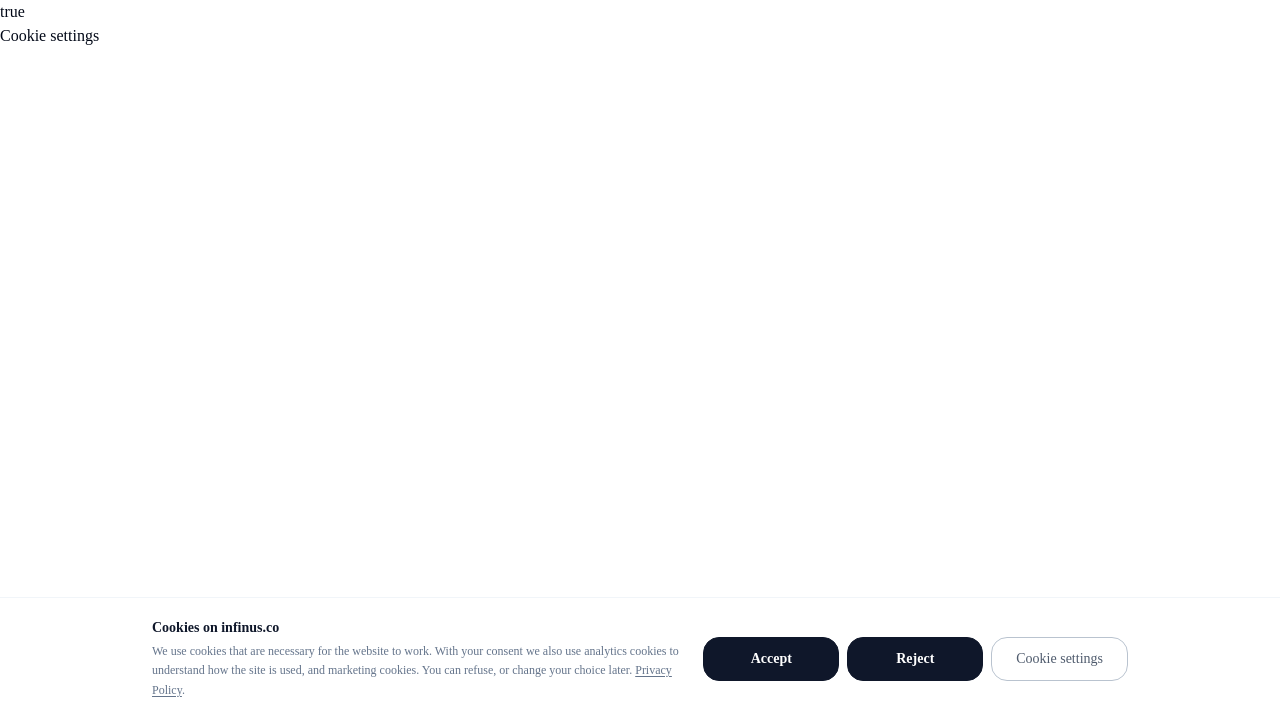
Scenario: Reject all › stores a refusal, loads nothing, and does not re-prompt
expect the dialog with test id "cookie-banner" is shown: met, box [0, 596, 1279, 719]
Click the button with test id "cookie-reject" at (915, 659), box [847, 637, 983, 681]
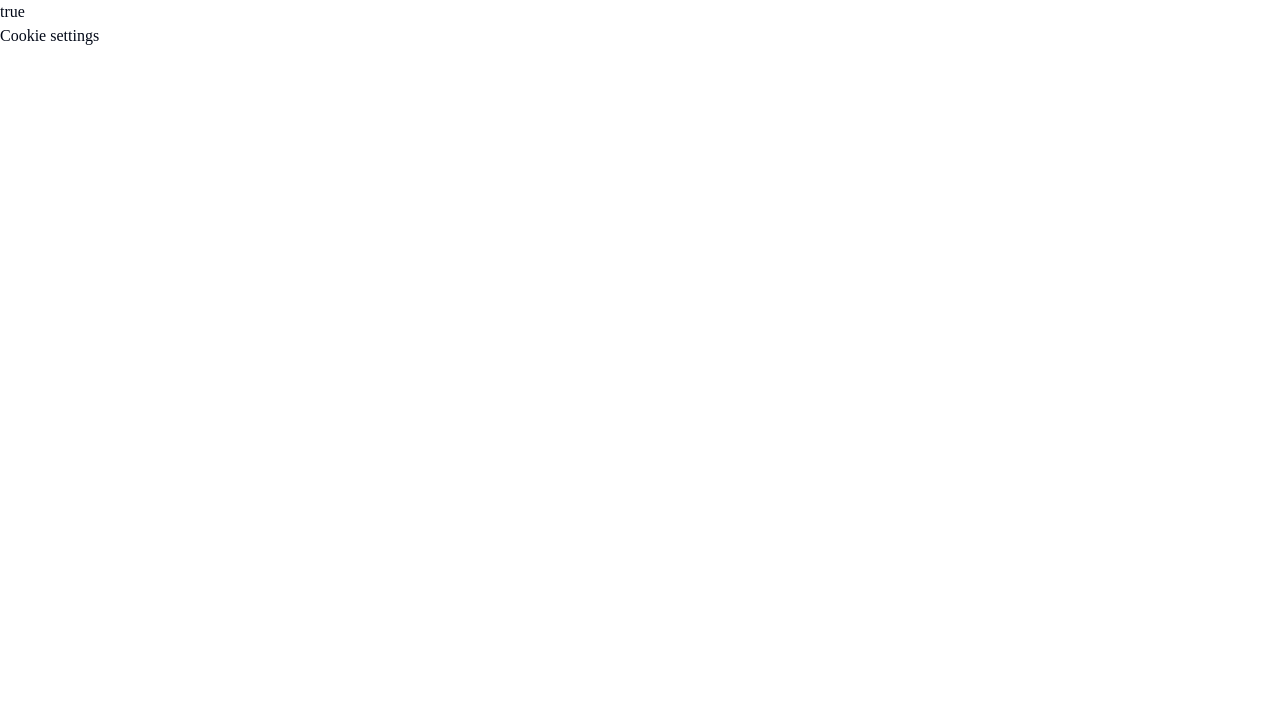
expect the dialog with test id "cookie-banner" is gone: met
